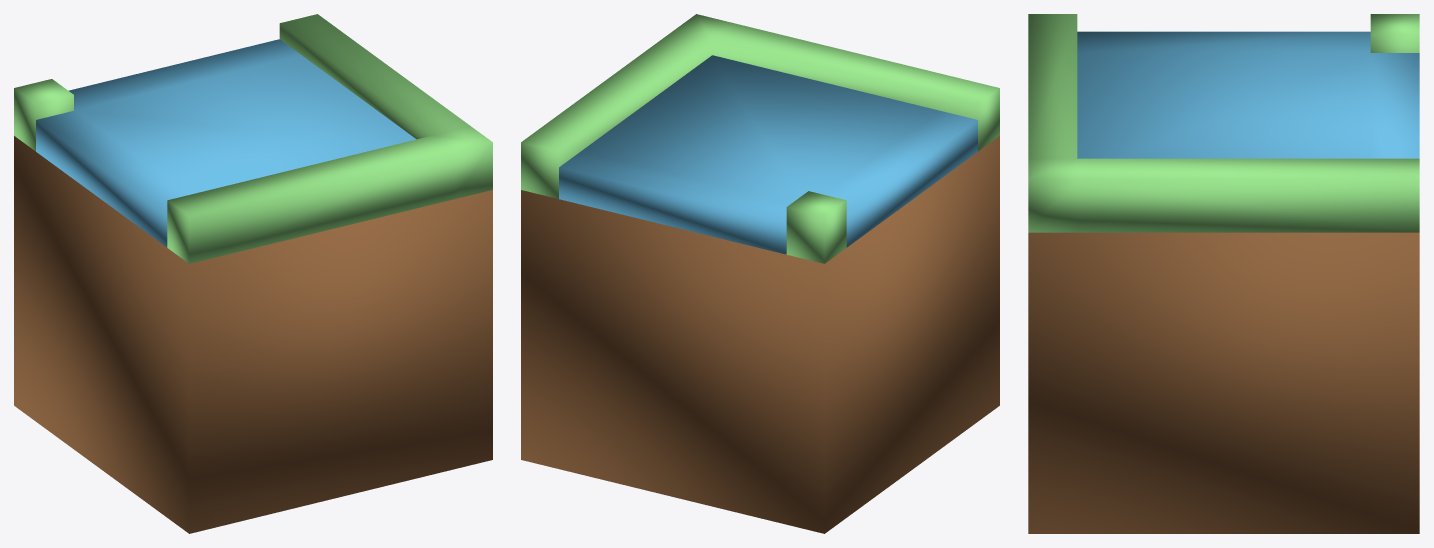
File: Water Tile - Corner - 1x1.glb
3 views of the same model, side by side, from view 1: azimuth 30°, elevation 25°; view 2: azimuth 150°, elevation 25°; view 3: azimuth 270°, elevation 25° (orthographic). The views are drawn at different scales.
Visible parts, largest first — view 1: Water Path Corner - BR.; view 2: Water Path Corner - BR.; view 3: Water Path Corner - BR..
Boxes of the visible parts, x1,y1,x2,y2 form: Water Path Corner - BR.: (14, 14, 492, 533); Water Path Corner - BR.: (521, 14, 999, 533); Water Path Corner - BR.: (1028, 14, 1419, 533).
Bounding box in the file's own units: 2 × 2 × 2.
